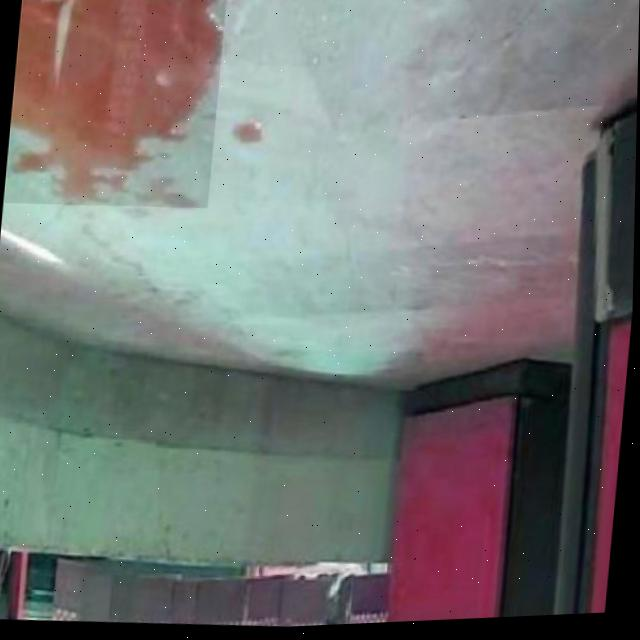spillage: (8, 0, 224, 205)
